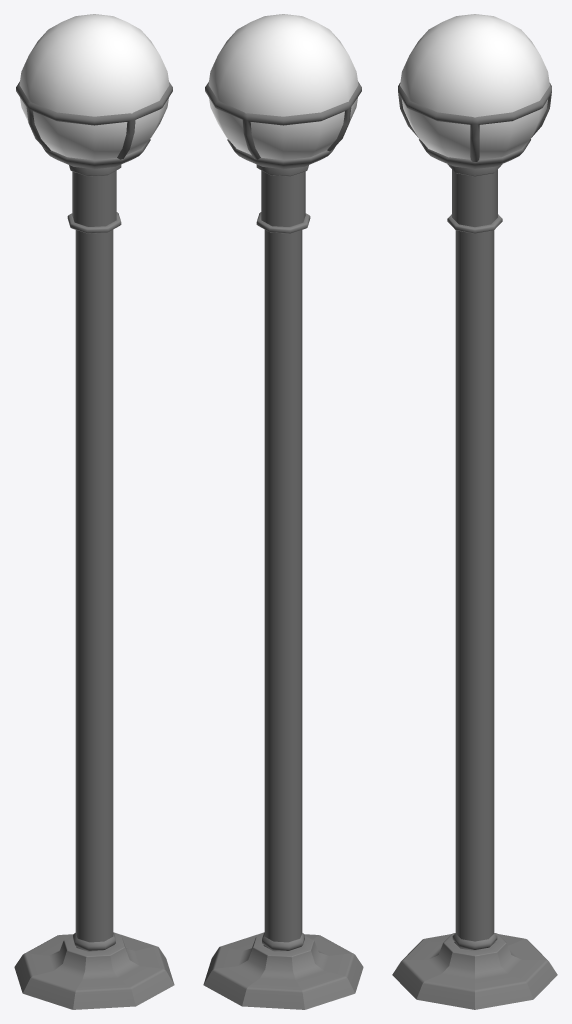
3 views of the same model, side by side, from view 1: azimuth 30°, elevation 25°; view 2: azimuth 150°, elevation 25°; view 3: azimuth 270°, elevation 25° (orthographic).
Visible parts, largest first — view 1: Lp_2; view 2: Lp_2; view 3: Lp_2.
Part boxes in pixels (x1,y1,x2,y2): Lp_2: (14, 14, 174, 1009); Lp_2: (203, 14, 363, 1009); Lp_2: (392, 14, 557, 1009).
Size of the model in its own units: 3.02 by 19.16 by 3.02.
1 material, 1 textured.
